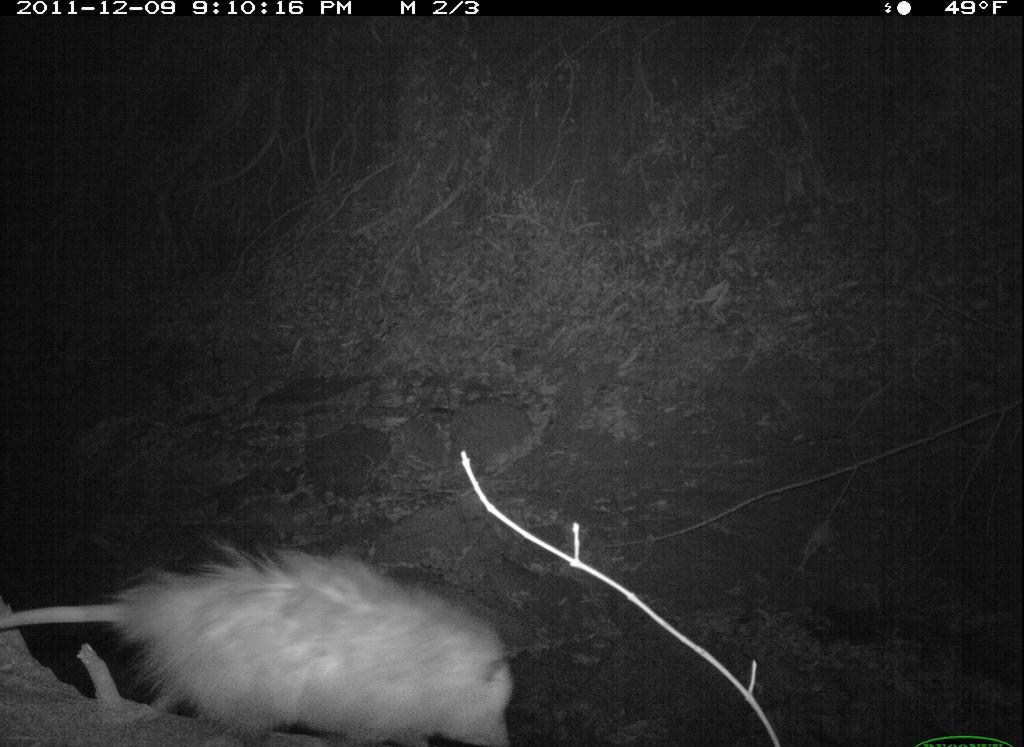opossum: (1, 528, 525, 747)
